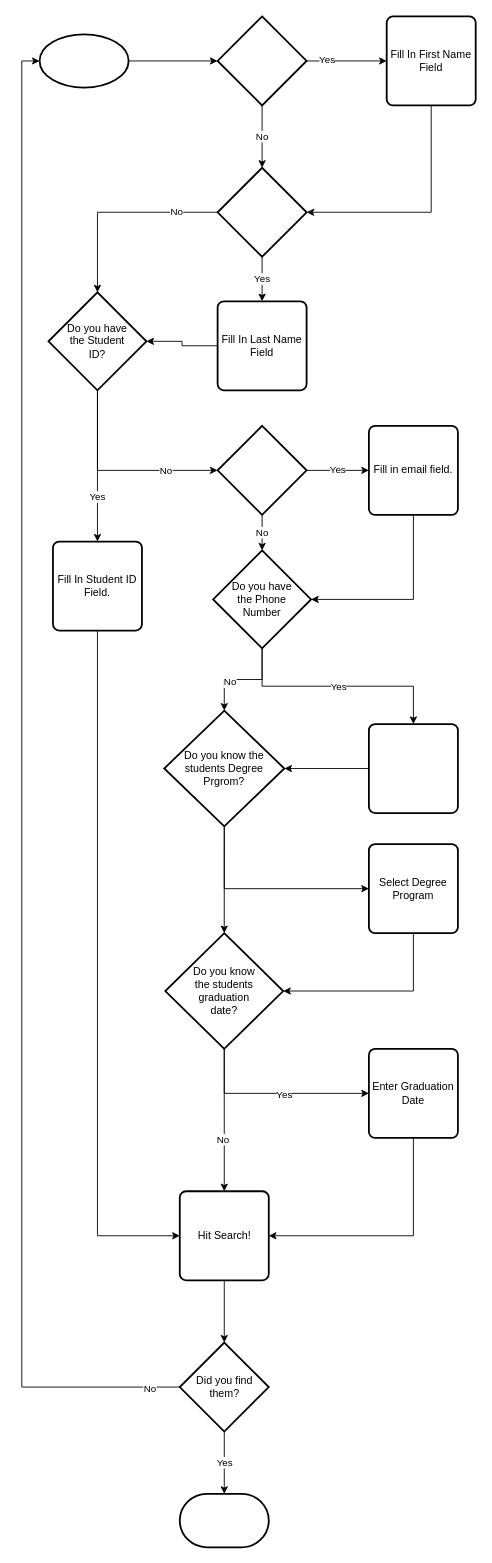
This 492x1563 diagram has some shape labels left out. Here are the shapes that lost their labels. From the top down, the centre of each, then its label:
At [83,60]: "Open Advanced Search Page".
At [261,60]: "Do you have First Name?".
At [261,211]: "Do you have Last Name?".
At [261,470]: "Do you have the email?".
At [413,768]: "Fill in Phone Number field.".
At [223,1520]: "Finished!".
